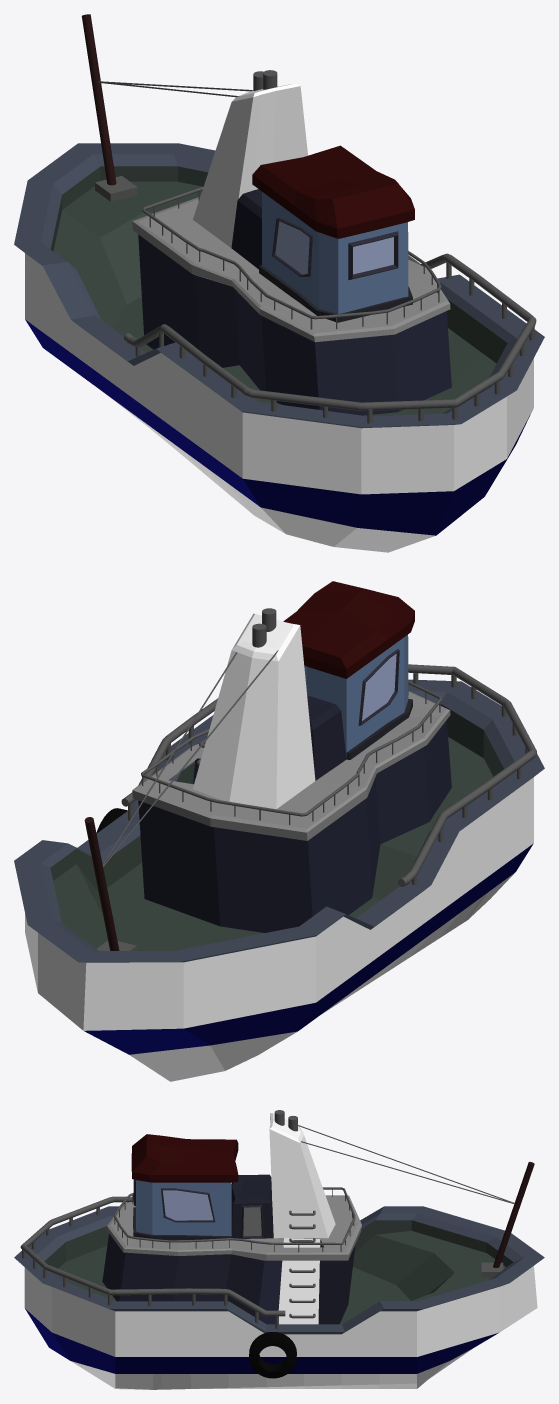
The picture shows the model from 3 angles, top to bottom: view 1: azimuth 30°, elevation 25°; view 2: azimuth 150°, elevation 25°; view 3: azimuth 270°, elevation 25°; orthographic projection. The views are drawn at different scales.
Parts seen in each view (by area): view 1: Barco; view 2: Barco; view 3: Barco.
Part boxes in pixels (x1=…): Barco: x1=14, y1=14, x2=544, y2=552; Barco: x1=14, y1=581, x2=544, y2=1081; Barco: x1=14, y1=1110, x2=544, y2=1389.
Bounding box in the file's own units: 7.51 × 8.92 × 15.59.
